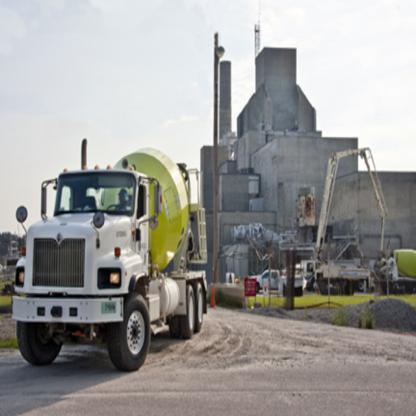Car: (250, 269, 280, 293)
Truck: (12, 138, 208, 373)
